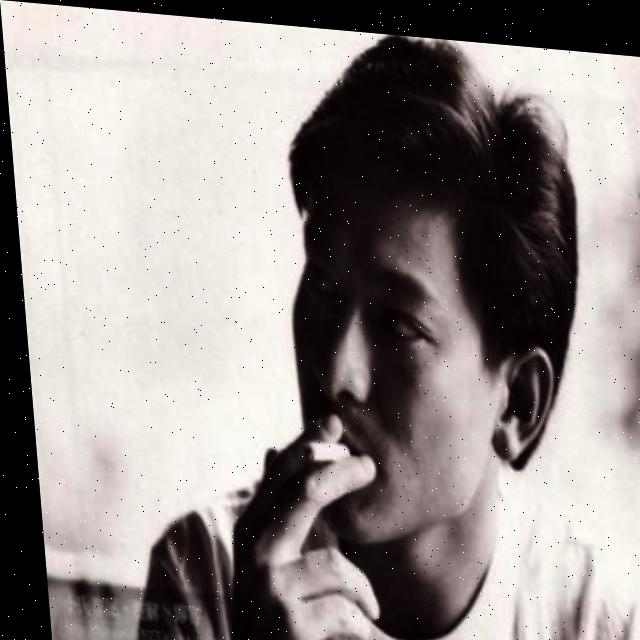cigarette: (292, 431, 347, 464)
